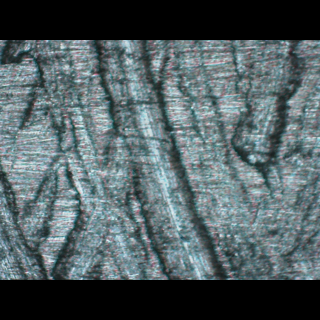d: (0, 40, 230, 278), (212, 56, 319, 192)
